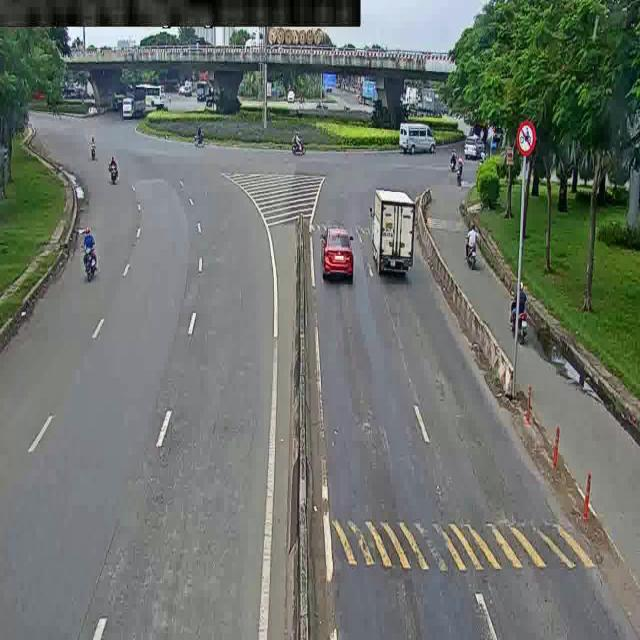car: (312, 220, 358, 288), (461, 132, 488, 160)
motorbike: (76, 226, 111, 278), (509, 282, 533, 338), (456, 223, 482, 271), (191, 124, 213, 157), (107, 158, 123, 190), (287, 134, 307, 157), (86, 131, 102, 157), (452, 157, 464, 186), (450, 151, 456, 169)
truck: (370, 190, 429, 290), (398, 123, 446, 157), (132, 82, 170, 108), (124, 84, 150, 117), (193, 78, 215, 99)
